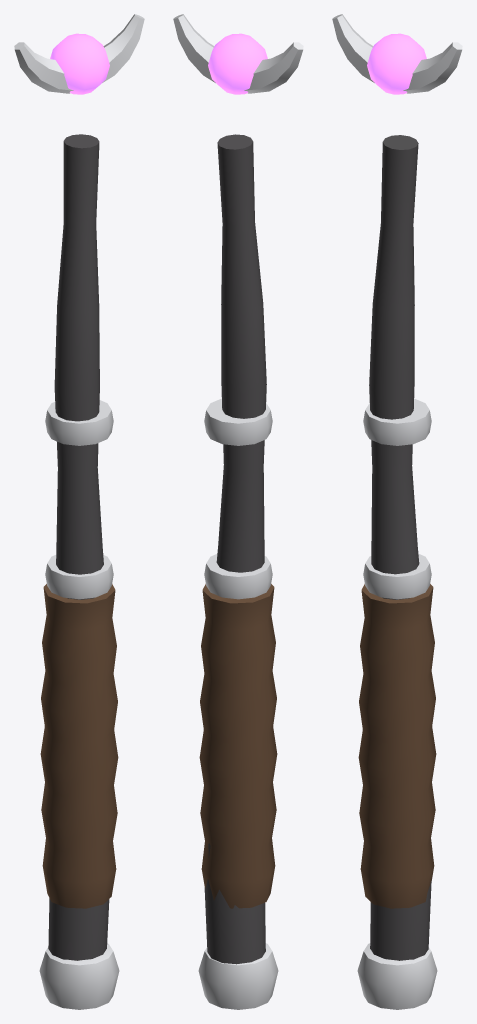
The model's file is nightbloom_wand.glb.
3 views of the same model, side by side, from view 1: azimuth 30°, elevation 25°; view 2: azimuth 150°, elevation 25°; view 3: azimuth 330°, elevation 25° (orthographic).
Visible parts, largest first — view 1: nightbloom_wand; view 2: nightbloom_wand; view 3: nightbloom_wand.
Boxes of the visible parts, left/top/right/bottom form: nightbloom_wand: left=14, top=14, right=144, bottom=1009; nightbloom_wand: left=173, top=14, right=303, bottom=1009; nightbloom_wand: left=332, top=14, right=462, bottom=1009.
Size of the model in its own units: 0.0486 by 0.3507 by 0.026.
